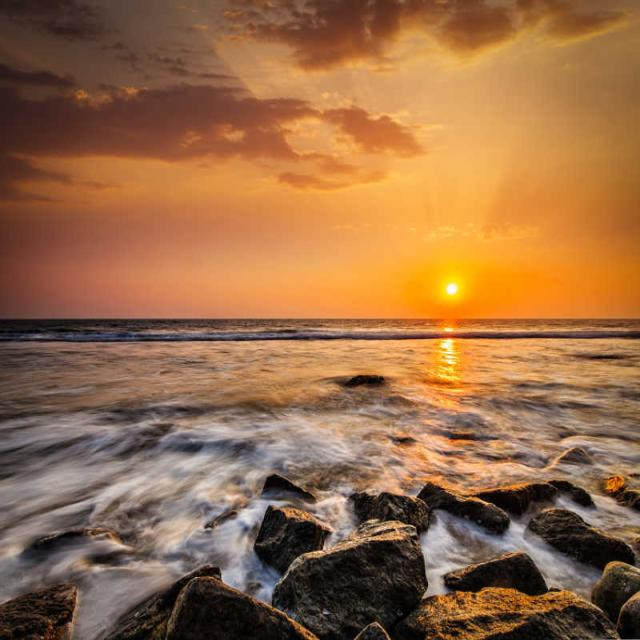reef: (256, 452, 520, 596)
